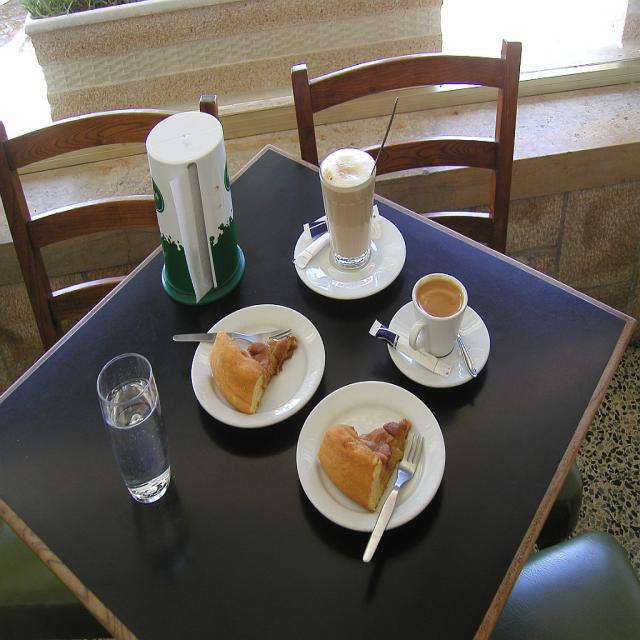Coffee: (416, 278, 466, 321)
Tea: (316, 148, 375, 258), (414, 276, 467, 320)
